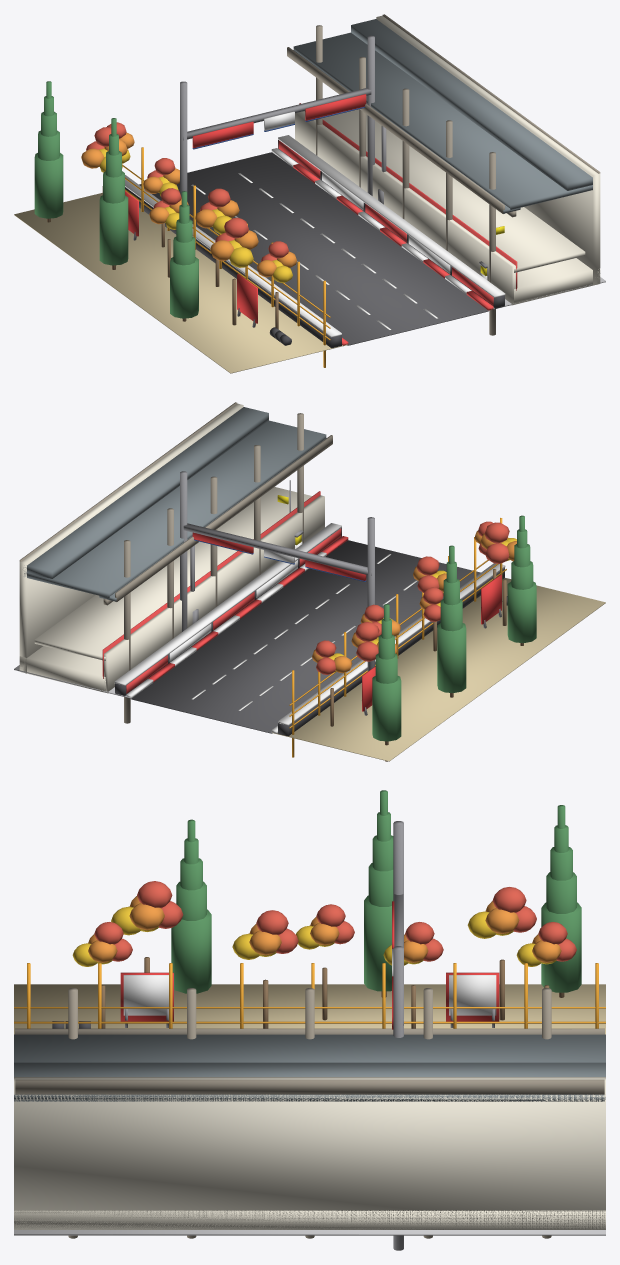
The model's file is env3-2.glb.
3 renders of one model, top to bottom at view 1: azimuth 30°, elevation 25°; view 2: azimuth 150°, elevation 25°; view 3: azimuth 270°, elevation 25°, orthographic. The views are drawn at different scales.
Parts seen in each view (by area): view 1: env3-2.001; view 2: env3-2.001; view 3: env3-2.001.
Boxes of the visible parts, x1,y1,x2,y2 form: env3-2.001: [14, 14, 605, 373]; env3-2.001: [14, 402, 605, 761]; env3-2.001: [14, 790, 605, 1250].
Size of the model in its own units: 20 by 11.2 by 20.
